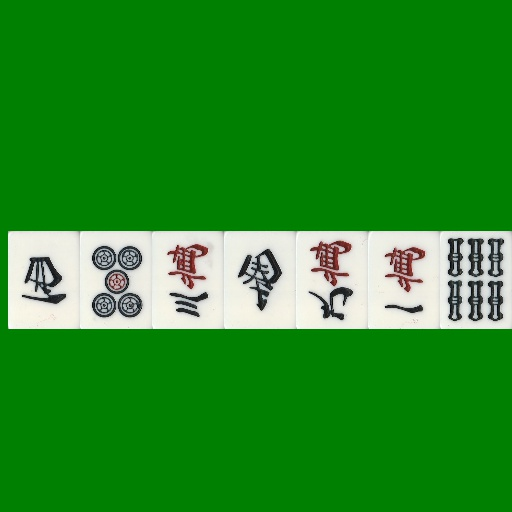1m: (368, 231, 440, 329)
3m: (152, 231, 224, 329)
5p: (80, 231, 152, 329)
6s: (440, 231, 512, 329)
9m: (296, 231, 368, 329)
south: (224, 231, 296, 329)
west: (8, 231, 80, 329)
